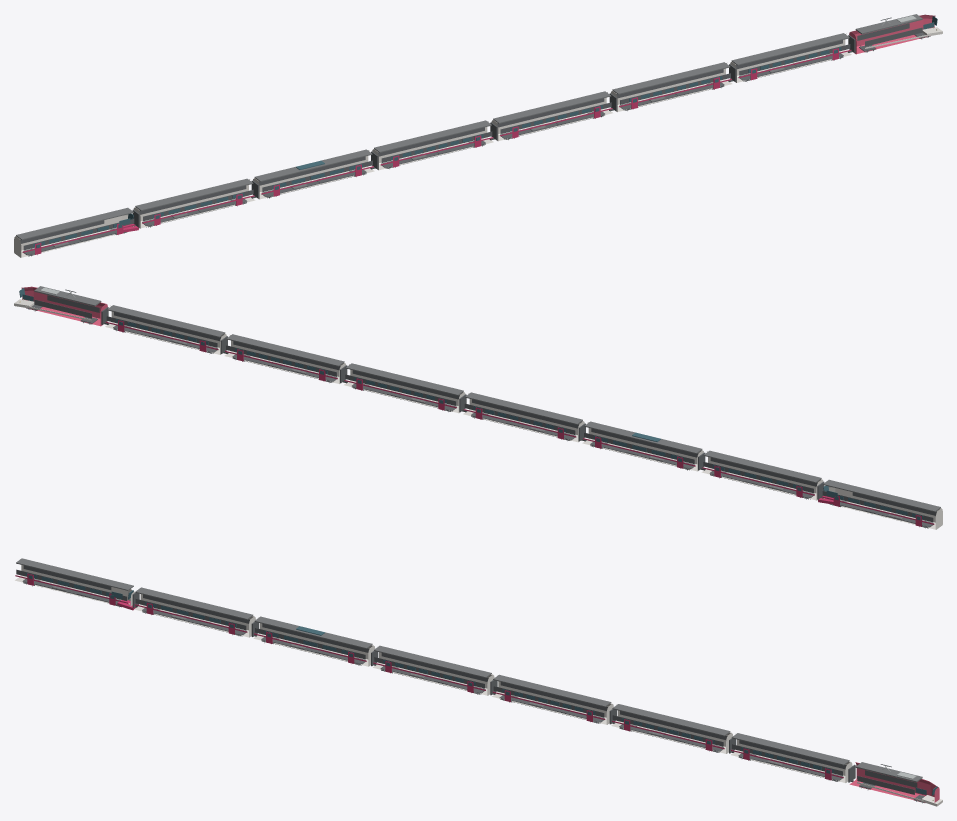
File: railjet-classic-hybrid.glb
3 views of the same model, one above another, from view 1: azimuth 30°, elevation 25°; view 2: azimuth 150°, elevation 25°; view 3: azimuth 330°, elevation 25° (orthographic).
Parts seen in each view (by area): view 1: classic_vehicle_4_economy, classic_vehicle_1_economy, classic_vehicle_3_economy, classic_vehicle_2_economy, classic_vehicle_6_first, classic_vehicle_5_restaurant, classic_vehicle_0_locomotive_lofted_shell, classic_vehicle_1_economy_roof_cap, classic_vehicle_7_first_roof_cap, classic_vehicle_2_economy_roof_cap, classic_vehicle_3_economy_roof_cap, classic_vehicle_6_first_roof_cap (+9 smaller); view 2: classic_vehicle_0_locomotive_lofted_shell, classic_vehicle_1_economy_roof_cap, classic_vehicle_7_first_roof_cap, classic_vehicle_2_economy_roof_cap, classic_vehicle_3_economy_roof_cap, classic_vehicle_6_first_roof_cap, classic_vehicle_4_economy_roof_cap, classic_vehicle_7_driving-trailer_lofted_shell, classic_vehicle_3_economy_lofted_shell, classic_vehicle_4_economy_lofted_shell, classic_vehicle_1_economy_lofted_shell, classic_vehicle_6_first_lofted_shell (+3 smaller); view 3: classic_vehicle_2_economy, classic_vehicle_3_economy, classic_vehicle_0_locomotive_lofted_shell, classic_vehicle_6_first, classic_vehicle_1_economy, classic_vehicle_5_restaurant, classic_vehicle_4_economy, classic_vehicle_2_economy_roof_cap, classic_vehicle_3_economy_roof_cap, classic_vehicle_1_economy_roof_cap, classic_vehicle_4_economy_roof_cap, classic_vehicle_6_first_roof_cap (+9 smaller).
Part boxes in pixels (x1,y1,x2,y2): classic_vehicle_4_economy: (380,131,493,168); classic_vehicle_1_economy: (738,44,851,81); classic_vehicle_3_economy: (500,102,612,139); classic_vehicle_2_economy: (619,73,731,110); classic_vehicle_6_first: (142,189,254,227); classic_vehicle_5_restaurant: (261,160,373,198); classic_vehicle_0_locomotive_lofted_shell: (849,14,935,54); classic_vehicle_1_economy_roof_cap: (731,33,849,65); classic_vehicle_7_first_roof_cap: (16,207,133,239); classic_vehicle_2_economy_roof_cap: (612,62,730,94); classic_vehicle_3_economy_roof_cap: (493,91,611,123); classic_vehicle_6_first_roof_cap: (135,178,253,210); classic_vehicle_0_locomotive_lofted_shell: (21,286,107,326); classic_vehicle_1_economy_roof_cap: (107,305,225,337); classic_vehicle_7_first_roof_cap: (823,479,940,511); classic_vehicle_2_economy_roof_cap: (226,334,344,366); classic_vehicle_3_economy_roof_cap: (345,363,463,395); classic_vehicle_6_first_roof_cap: (703,450,821,482); classic_vehicle_4_economy_roof_cap: (465,392,582,424); classic_vehicle_7_driving-trailer_lofted_shell: (828,486,942,529); classic_vehicle_3_economy_lofted_shell: (344,364,465,413); classic_vehicle_4_economy_lofted_shell: (463,393,584,442); classic_vehicle_1_economy_lofted_shell: (105,305,226,354); classic_vehicle_6_first_lofted_shell: (701,451,823,500); classic_vehicle_2_economy: (612,715,724,752); classic_vehicle_3_economy: (492,686,605,723); classic_vehicle_0_locomotive_lofted_shell: (849,762,939,802); classic_vehicle_6_first: (134,599,247,635); classic_vehicle_1_economy: (731,744,843,781); classic_vehicle_5_restaurant: (254,628,366,665); classic_vehicle_4_economy: (373,657,485,694); classic_vehicle_2_economy_roof_cap: (612,704,730,736); classic_vehicle_3_economy_roof_cap: (493,674,611,706); classic_vehicle_1_economy_roof_cap: (731,733,849,765); classic_vehicle_4_economy_roof_cap: (374,645,491,677); classic_vehicle_6_first_roof_cap: (135,587,253,619).
Bounding box in the file's own units: 211 × 5.74 × 3.17.
